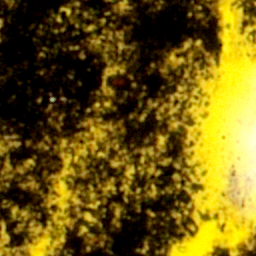cement_matrix: (0, 0, 219, 255), (242, 0, 255, 21), (239, 238, 255, 255), (169, 54, 180, 65), (125, 166, 134, 178), (157, 137, 165, 147), (215, 249, 227, 255), (85, 214, 93, 222), (108, 66, 116, 73), (90, 198, 95, 203), (106, 184, 110, 189), (145, 151, 149, 156)
cracks: (167, 0, 255, 255), (0, 123, 107, 255), (170, 55, 179, 64), (126, 167, 133, 177), (158, 138, 164, 146), (86, 215, 92, 221), (109, 67, 115, 72), (91, 199, 94, 202), (107, 185, 109, 188), (146, 152, 148, 155), (0, 146, 2, 149)
gravel_crushed_stones: (236, 90, 255, 198)
